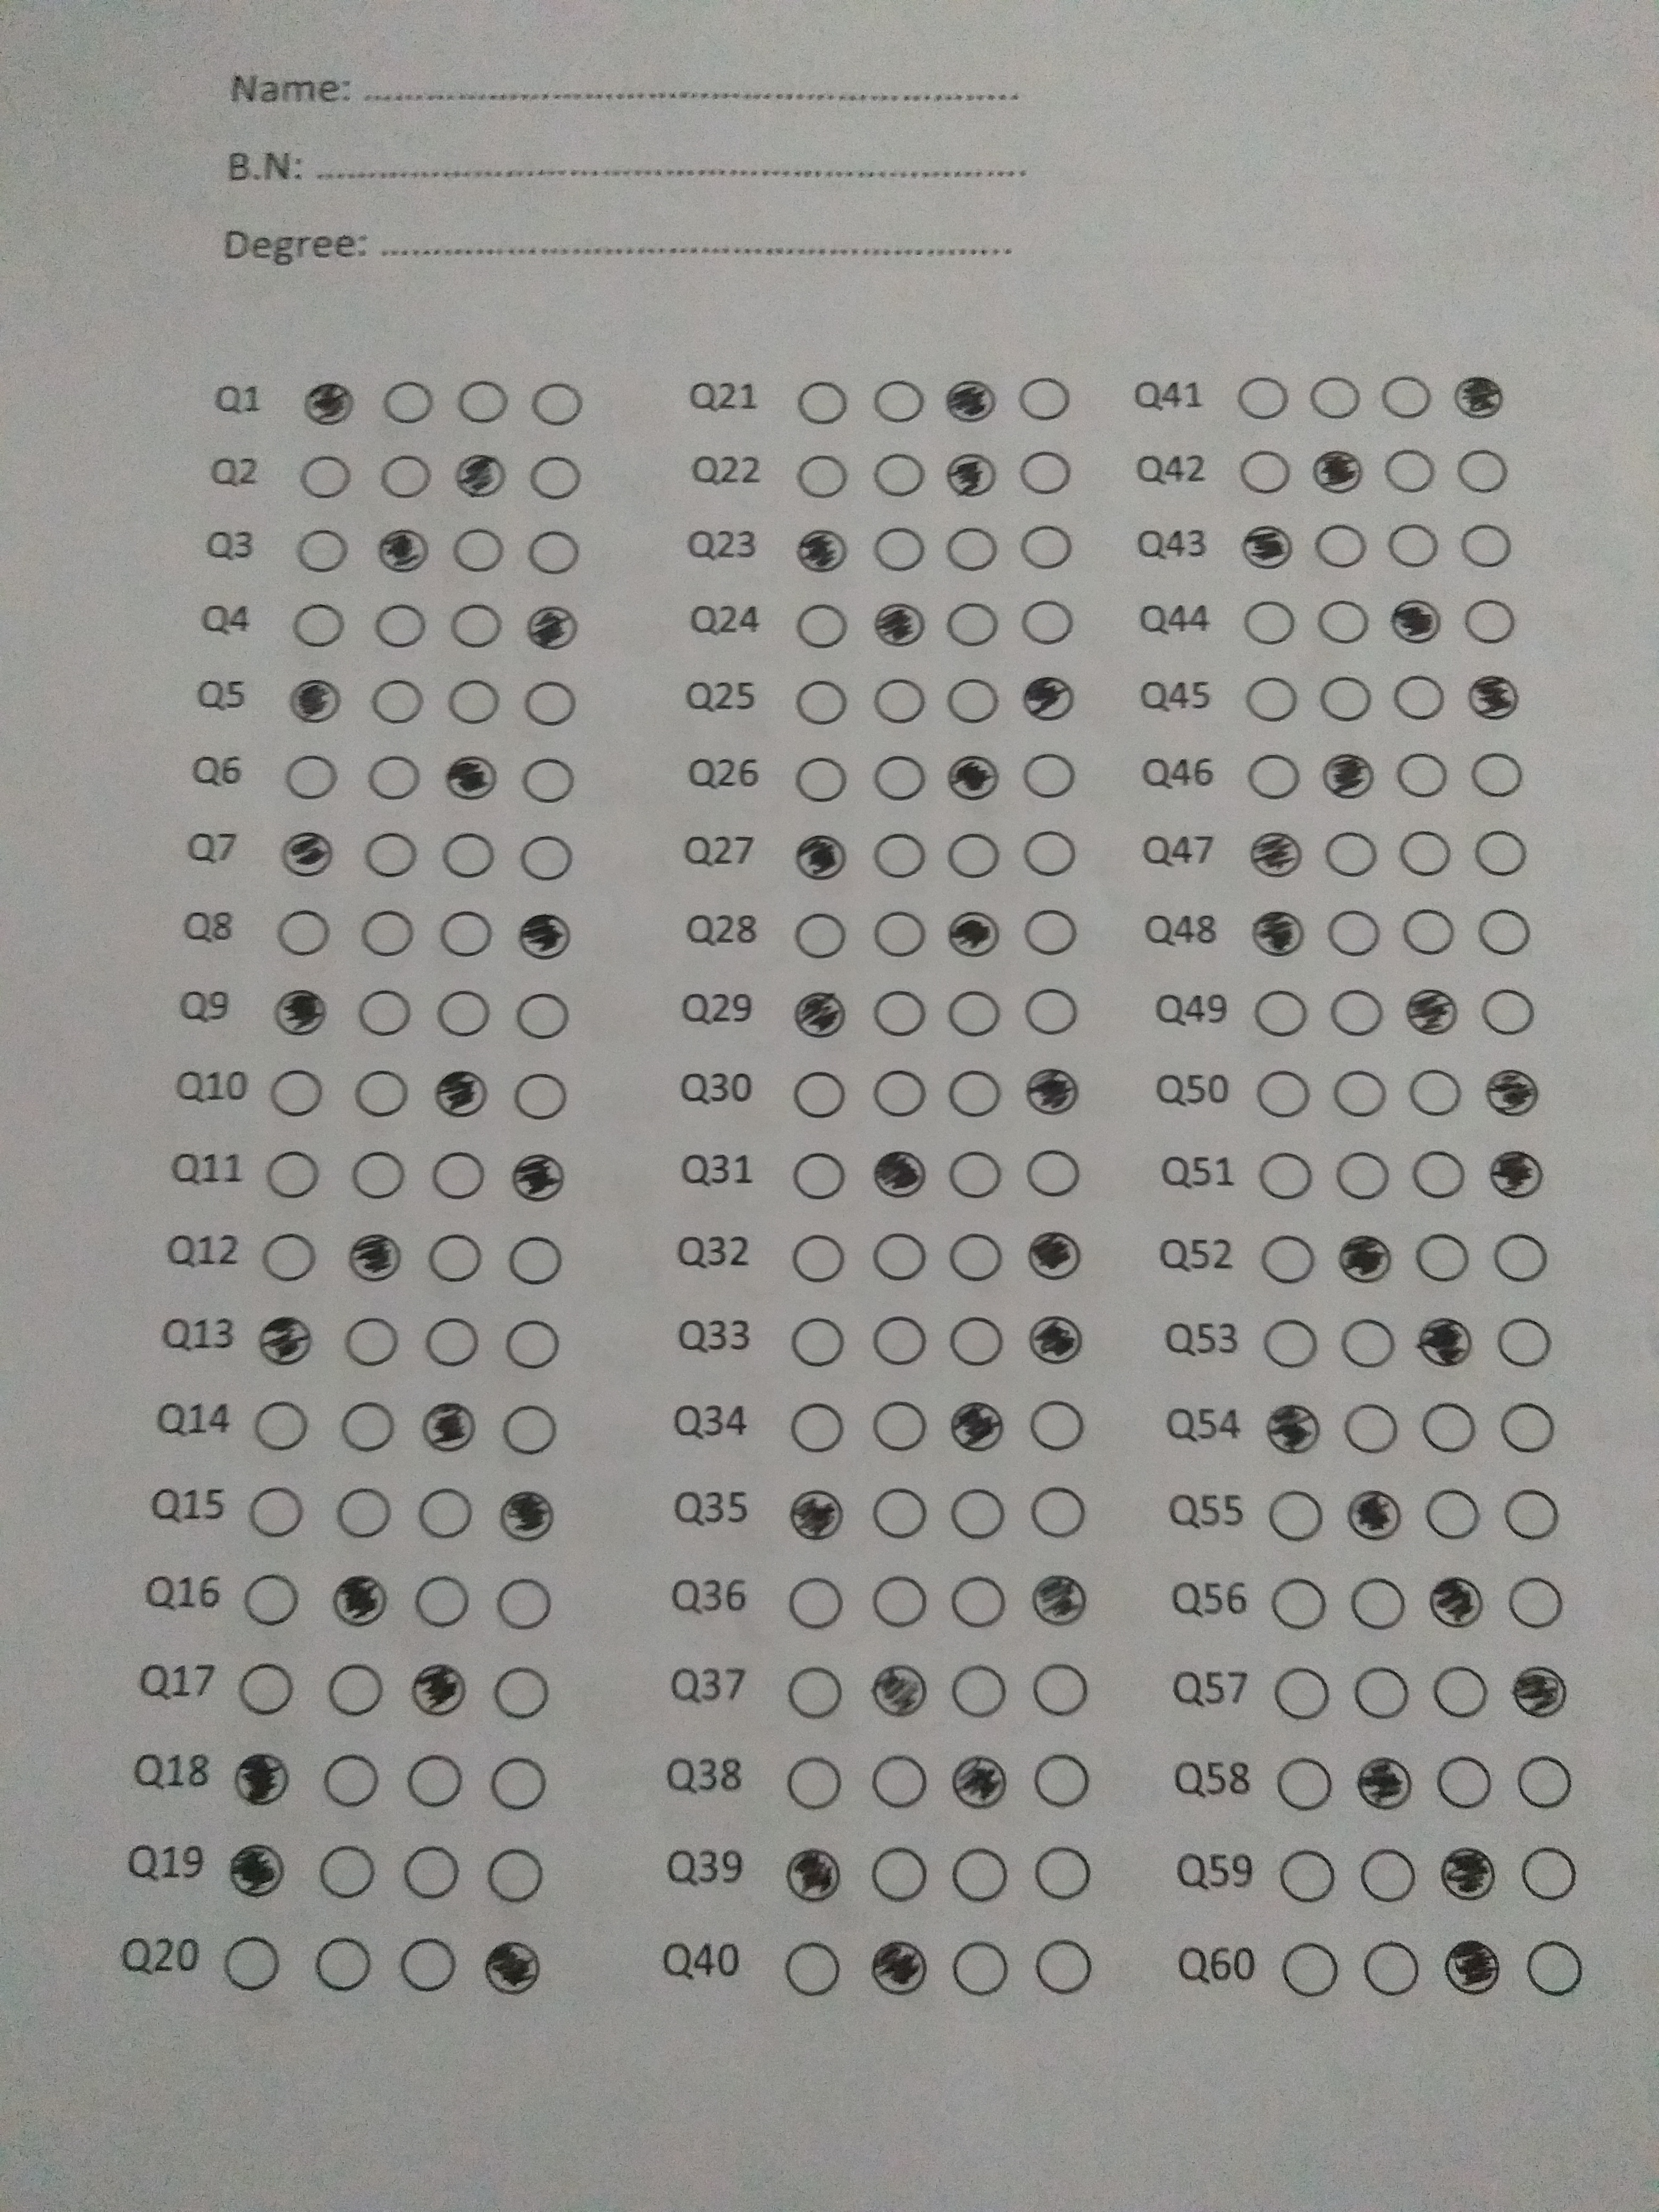not-c: (1030, 1660, 1093, 1719), (946, 1573, 1009, 1632), (786, 1573, 849, 1632), (1269, 1575, 1331, 1634), (314, 1843, 376, 1902), (484, 1846, 547, 1905), (948, 1937, 1011, 1996), (782, 1939, 845, 1998), (1030, 1844, 1093, 1904), (1028, 1750, 1091, 1810), (1429, 1663, 1492, 1723), (1351, 1663, 1413, 1723), (319, 1750, 380, 1810), (786, 1397, 847, 1456), (1518, 1844, 1579, 1904), (782, 1754, 845, 1811), (1270, 1665, 1333, 1723), (870, 1575, 932, 1632), (1504, 1573, 1567, 1630), (1345, 1576, 1408, 1634), (394, 1937, 457, 1994), (310, 1937, 373, 1994), (221, 1935, 284, 1993), (399, 1843, 462, 1900), (484, 1754, 547, 1811), (324, 1662, 387, 1719), (490, 1663, 552, 1721), (234, 1662, 296, 1719), (868, 1754, 931, 1811), (948, 1848, 1011, 1905), (948, 1660, 1011, 1717), (1279, 1940, 1342, 1998), (1511, 1754, 1574, 1811), (1434, 1754, 1497, 1811), (1272, 1754, 1335, 1811), (1523, 1940, 1586, 1998), (1033, 1939, 1096, 1996), (404, 1754, 465, 1811), (866, 1844, 927, 1902), (782, 1663, 843, 1721), (1358, 1846, 1419, 1904), (1276, 1846, 1337, 1904), (1361, 1940, 1422, 1998), (350, 1064, 413, 1120), (511, 1068, 573, 1123), (430, 986, 493, 1042), (354, 984, 416, 1040), (1330, 1064, 1392, 1120), (1251, 1064, 1314, 1120), (1476, 984, 1539, 1040), (1021, 982, 1084, 1038), (943, 986, 1006, 1042), (1019, 904, 1082, 960), (789, 907, 852, 963), (430, 906, 493, 961), (274, 902, 336, 958), (1260, 1315, 1323, 1371), (1258, 1231, 1321, 1287), (1021, 1143, 1084, 1198), (788, 1150, 850, 1205), (866, 1066, 929, 1122), (1410, 1148, 1473, 1204), (1253, 1148, 1316, 1204), (342, 1315, 404, 1371), (422, 1313, 484, 1369), (500, 1317, 563, 1372), (256, 1230, 319, 1285), (427, 1148, 490, 1204), (786, 1315, 849, 1371), (868, 1399, 931, 1454), (943, 1312, 1006, 1367), (864, 1230, 927, 1285), (1025, 1484, 1087, 1540), (239, 1573, 301, 1629), (491, 1573, 554, 1629), (1493, 1400, 1556, 1456), (1335, 1315, 1398, 1371), (265, 1064, 326, 1120), (512, 986, 573, 1042), (1249, 984, 1310, 1040), (1328, 982, 1389, 1038), (1474, 904, 1535, 960), (1323, 906, 1384, 961), (870, 986, 931, 1042), (1018, 826, 1079, 881), (355, 906, 416, 961), (868, 749, 929, 805), (943, 1146, 1004, 1202), (943, 1066, 1004, 1122), (789, 1066, 850, 1122), (1331, 1148, 1392, 1204), (251, 1399, 312, 1454), (338, 1399, 399, 1454), (505, 1231, 566, 1287), (423, 1230, 484, 1285), (347, 1148, 408, 1204), (263, 1144, 324, 1200), (870, 1313, 931, 1369), (1499, 1487, 1560, 1543), (1263, 1487, 1324, 1543), (945, 1486, 1006, 1541), (868, 1486, 929, 1541), (411, 1571, 472, 1627), (246, 1482, 307, 1538), (416, 1486, 477, 1541), (1396, 904, 1459, 958), (868, 907, 931, 961), (870, 829, 932, 883), (1488, 1230, 1551, 1284), (1412, 1230, 1474, 1284), (945, 1231, 1007, 1285), (786, 1231, 849, 1285), (1422, 1487, 1485, 1541), (1026, 1397, 1089, 1451), (1417, 1400, 1480, 1454), (1342, 1402, 1405, 1456), (1492, 1315, 1554, 1369), (1406, 1064, 1467, 1118), (943, 829, 1004, 883), (497, 1402, 558, 1456), (333, 1486, 394, 1540), (791, 749, 850, 803), (791, 378, 849, 427), (1234, 374, 1291, 423), (518, 834, 575, 883), (441, 831, 498, 880), (361, 831, 418, 880), (519, 758, 577, 806), (281, 752, 338, 801), (368, 678, 425, 726), (519, 679, 577, 728), (371, 603, 429, 651), (525, 528, 582, 577), (298, 453, 355, 502), (378, 451, 436, 500), (526, 451, 584, 500), (530, 380, 587, 428), (380, 378, 437, 427), (870, 374, 927, 423), (870, 526, 927, 575), (1473, 827, 1530, 876), (1398, 829, 1455, 878), (1321, 829, 1378, 878), (1469, 751, 1527, 799), (1392, 751, 1450, 799), (1244, 674, 1302, 723), (1317, 676, 1375, 725), (1391, 674, 1448, 723), (1460, 597, 1518, 646), (1316, 597, 1373, 646), (1241, 599, 1298, 648), (1457, 521, 1514, 570), (1385, 523, 1443, 571), (1312, 523, 1370, 571), (1455, 446, 1513, 495), (1382, 446, 1439, 495), (1237, 446, 1295, 495), (1018, 449, 1075, 498), (1014, 373, 1072, 421), (795, 678, 852, 726), (1019, 751, 1077, 799), (1018, 597, 1075, 646), (943, 601, 1000, 650), (795, 603, 852, 651), (868, 451, 925, 500), (795, 451, 852, 500), (450, 603, 505, 651), (450, 526, 505, 575), (946, 524, 1002, 573), (946, 678, 1002, 726), (1378, 373, 1436, 420), (1307, 373, 1364, 420), (364, 756, 422, 803), (444, 678, 502, 725), (289, 601, 347, 648), (293, 528, 350, 575), (453, 380, 511, 427), (1016, 524, 1073, 571), (1246, 754, 1303, 801), (870, 676, 927, 723)
taken-c: (789, 988, 850, 1043), (1249, 907, 1310, 963), (272, 986, 333, 1042), (277, 829, 338, 885), (282, 674, 343, 730), (1385, 594, 1446, 650), (1236, 521, 1297, 577), (1462, 672, 1523, 728), (296, 378, 357, 434), (228, 1752, 289, 1808), (329, 1573, 390, 1629), (343, 1230, 404, 1285), (1485, 1064, 1544, 1120), (1403, 986, 1462, 1042), (432, 1066, 491, 1122), (945, 749, 1004, 805), (791, 831, 850, 887), (441, 751, 500, 806), (523, 601, 582, 657), (371, 524, 430, 580), (1018, 671, 1077, 726), (870, 597, 929, 653), (791, 528, 850, 583), (1317, 749, 1377, 805), (1310, 446, 1370, 502), (1448, 369, 1507, 425), (943, 444, 1002, 500), (939, 374, 999, 430), (450, 448, 509, 503), (1354, 1757, 1413, 1813), (1509, 1663, 1568, 1719), (1425, 1573, 1485, 1629), (1025, 1310, 1084, 1366), (1025, 1228, 1084, 1284), (1344, 1487, 1403, 1543), (1262, 1399, 1321, 1454), (1417, 1315, 1476, 1371), (1486, 1148, 1546, 1204), (228, 1844, 288, 1900), (408, 1662, 467, 1717), (498, 1489, 558, 1545), (418, 1399, 477, 1454), (256, 1313, 315, 1369), (870, 1662, 929, 1717), (948, 1754, 1007, 1810), (781, 1848, 840, 1904), (870, 1940, 929, 1996), (1441, 1939, 1500, 1994), (1023, 1064, 1084, 1118), (507, 1153, 568, 1207), (1436, 1846, 1497, 1900), (870, 1144, 929, 1198), (943, 907, 1002, 961), (516, 911, 575, 965), (1246, 829, 1305, 883), (948, 1399, 1007, 1453), (1337, 1231, 1396, 1285), (481, 1940, 540, 1994), (786, 1489, 845, 1543), (1030, 1575, 1089, 1629)
